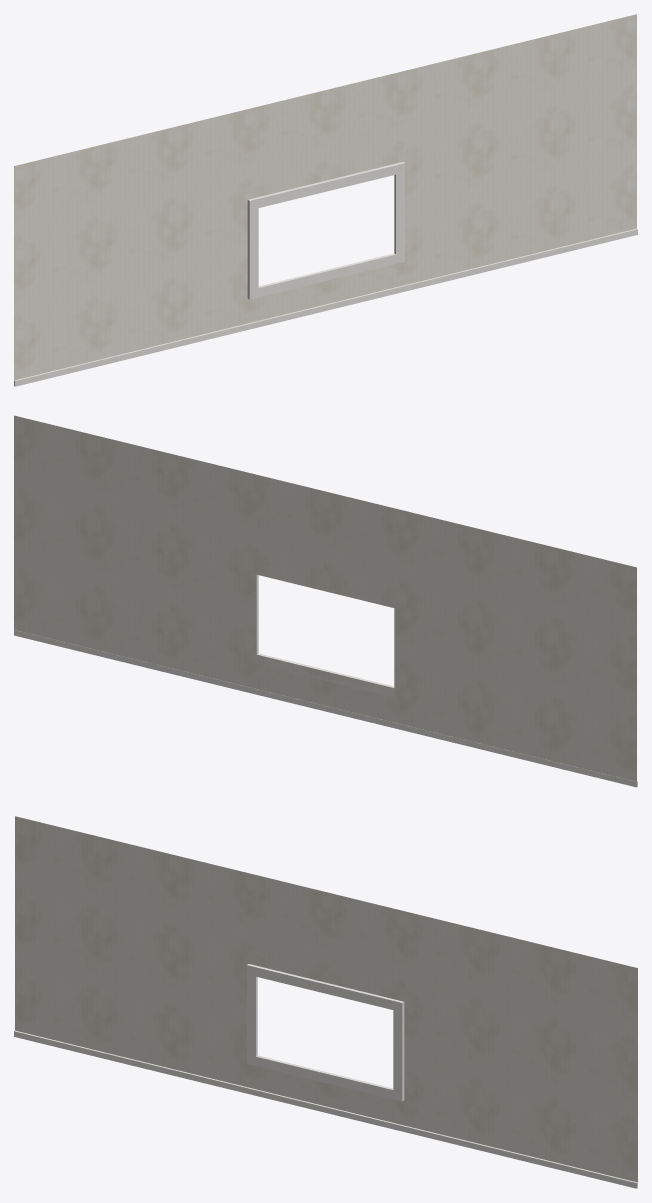
3 views of the same model, one above another, from view 1: azimuth 30°, elevation 25°; view 2: azimuth 150°, elevation 25°; view 3: azimuth 330°, elevation 25° (orthographic).
Parts seen in each view (by area): view 1: jx_wm_16_984ea33e; view 2: jx_wm_16_984ea33e; view 3: jx_wm_16_984ea33e.
Boxes of the visible parts, <box> form: jx_wm_16_984ea33e: <box>14,14,637,386</box>; jx_wm_16_984ea33e: <box>14,415,637,787</box>; jx_wm_16_984ea33e: <box>14,816,637,1188</box>.
Bounding box in the file's own units: 16.3 × 5.5 × 0.086.
2 materials, 2 textured.
